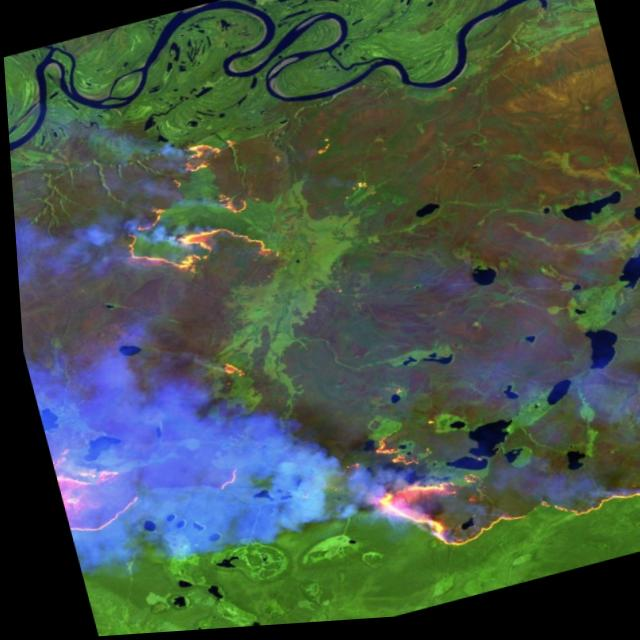fire: (337, 361, 640, 580), (83, 124, 279, 306), (42, 426, 148, 549), (196, 346, 261, 398)
